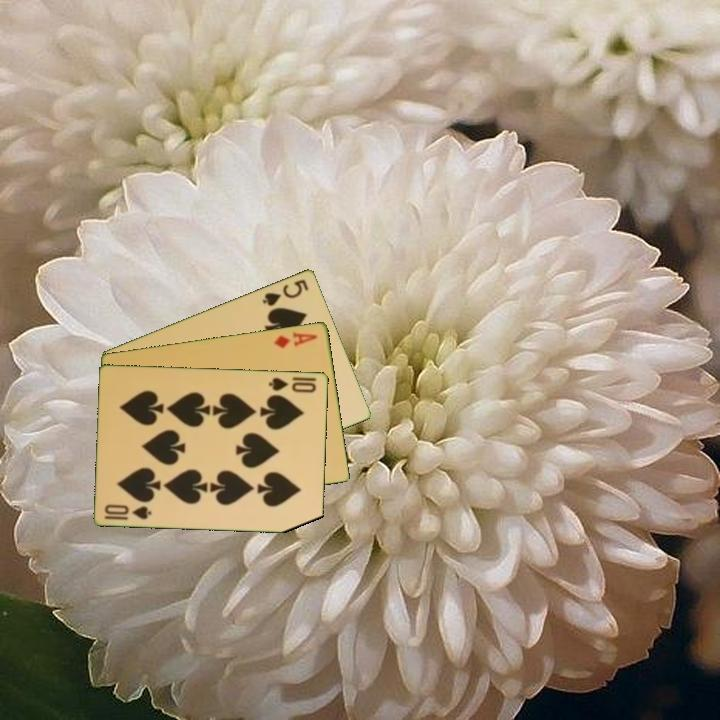10s: (101, 501, 155, 522), (266, 374, 319, 395)
5s: (259, 275, 311, 309)
Ad: (271, 328, 320, 351)
